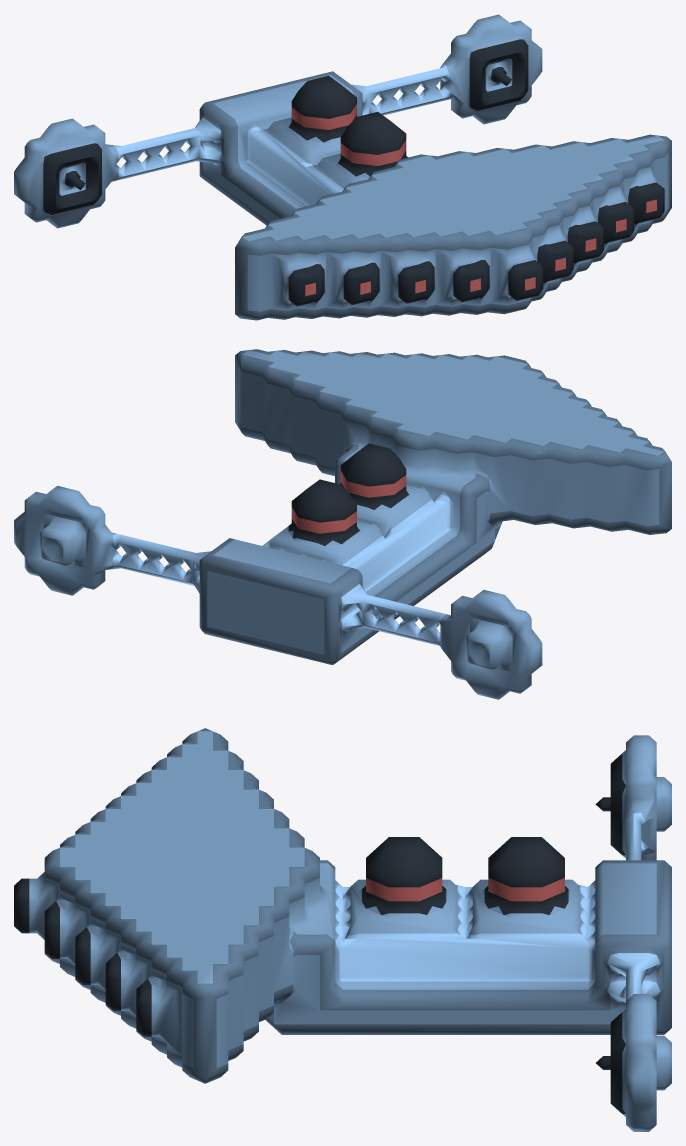
The model's file is usa-5-iowa-class.obj.
The picture shows the model from 3 angles, top to bottom: view 1: azimuth 30°, elevation 25°; view 2: azimuth 150°, elevation 25°; view 3: azimuth 270°, elevation 25°; orthographic projection. The views are drawn at different scales.
Size of the model in its own units: 49 by 11 by 43.
1 material, 1 textured.
